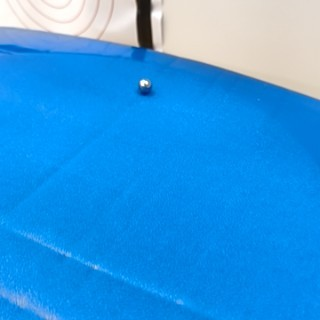ironball: (133, 75, 154, 98)
